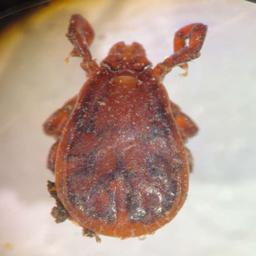Rhipicephalus sanguineus: (43, 15, 209, 244)
